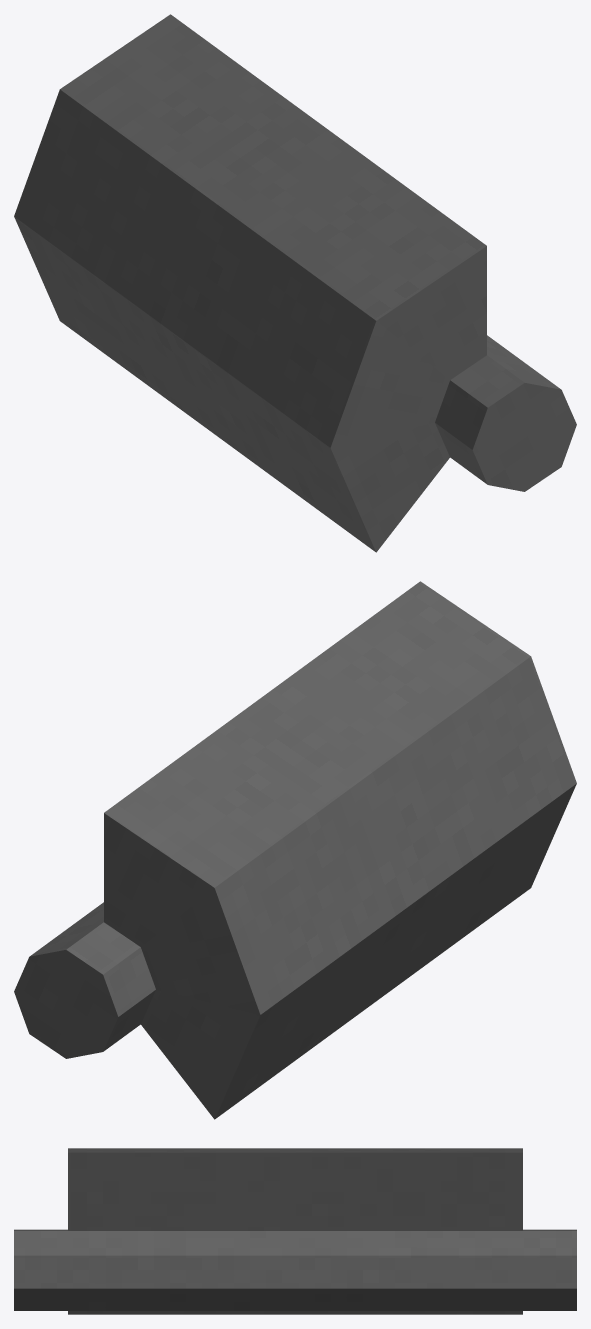
The model's file is selenium_rotor.obj.
3 views of the same model, one above another, from view 1: azimuth 30°, elevation 25°; view 2: azimuth 150°, elevation 25°; view 3: azimuth 270°, elevation 25° (orthographic). The views are drawn at different scales.
Parts seen in each view (by area): view 1: Cylinder.001_Cylinder.002; view 2: Cylinder.001_Cylinder.002; view 3: Cylinder.001_Cylinder.002.
Boxes of the visible parts, box(x1,y1,x2,y2) form: Cylinder.001_Cylinder.002: box(14, 14, 576, 552); Cylinder.001_Cylinder.002: box(14, 581, 576, 1119); Cylinder.001_Cylinder.002: box(14, 1148, 576, 1314).
Size of the model in its own units: 0.2 by 0.2561 by 0.65.
